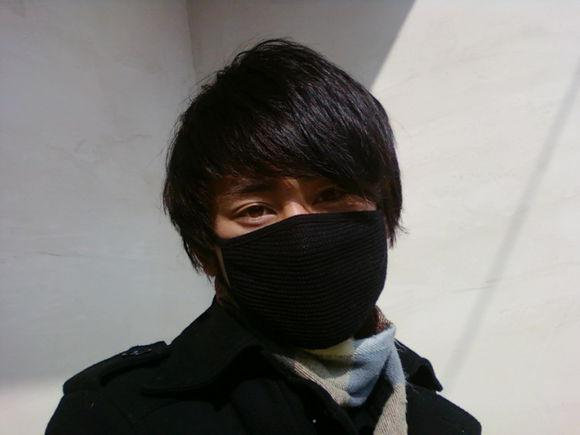OK: (217, 163, 393, 339)
